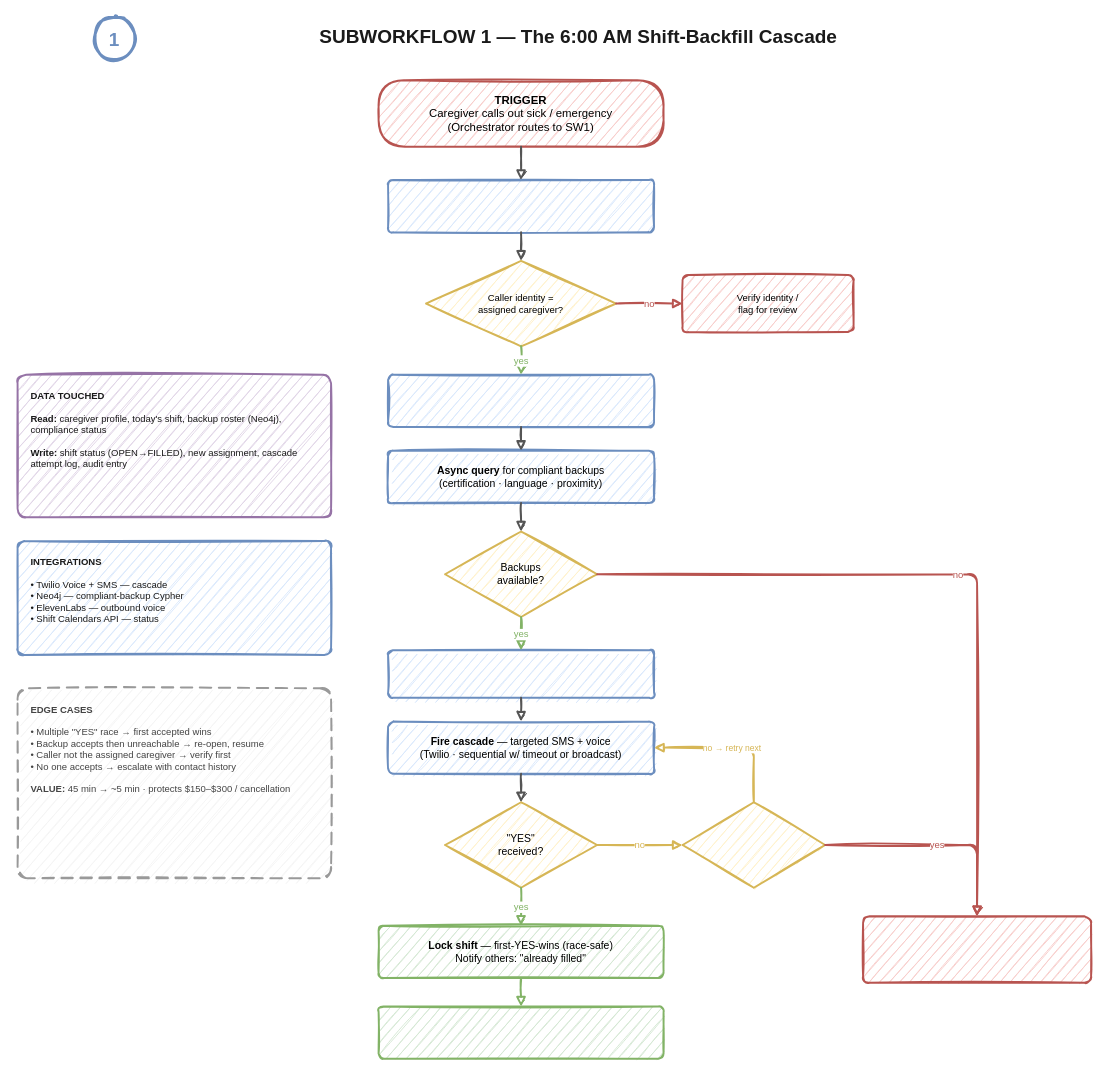
Image size: 1108x1076. Some labels were removed from this diagram. Each missing label, with the centre of its shape:
Confirm the shift being vacated (patient · time · location): the point at 521,206
Escalate to human scheduler with summary of who was contacted: the point at 977,949
List exhausted?: the point at 753,844
Log vacancy → shift status = OPEN (record reason): the point at 521,400
Rank backups (best match first): the point at 521,673
Update calendar → FILLED · write audit Return control to Orchestrator + summary: the point at 520,1032
